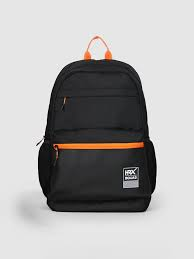backpack: (36, 35, 157, 212)
